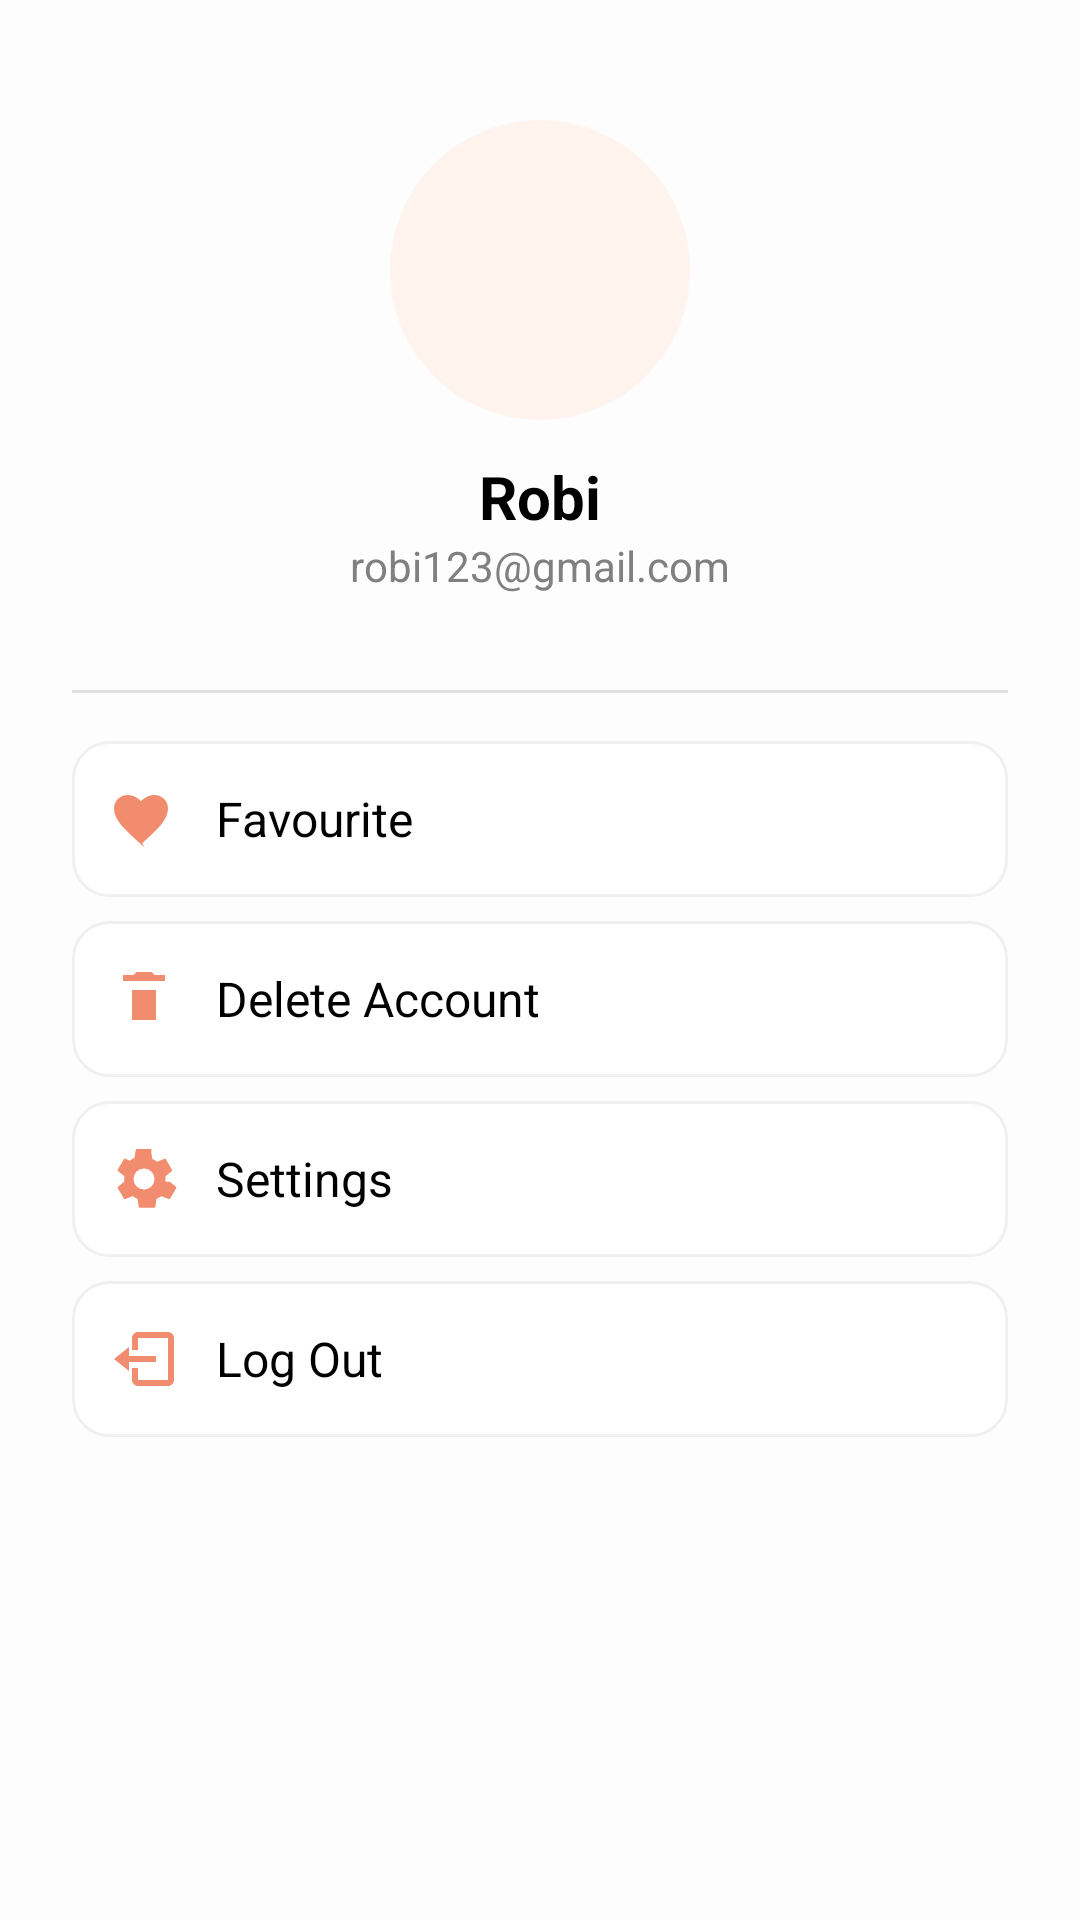

Icons on this 1080*1920 Android screen, each with its box as (x1, y1, x2, y2):
favorite: (114, 795, 168, 847)
